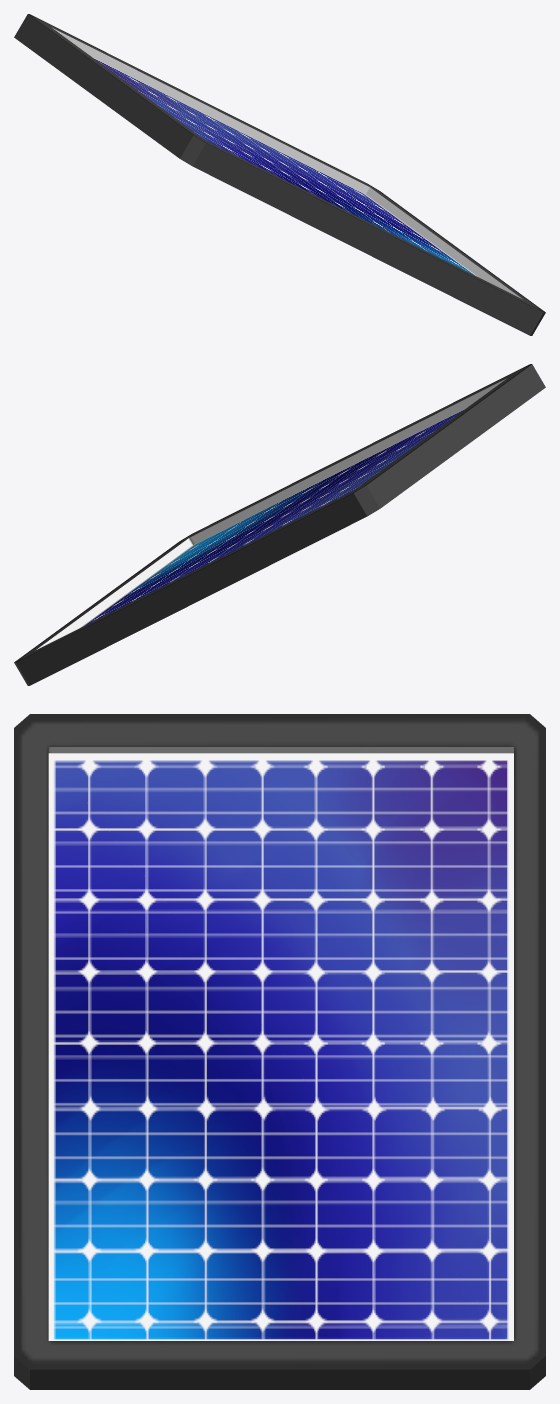
File: SolarPanel.fbx
The picture shows the model from 3 angles, top to bottom: view 1: azimuth 30°, elevation 25°; view 2: azimuth 150°, elevation 25°; view 3: azimuth 270°, elevation 25°; orthographic projection. The views are drawn at different scales.
Parts seen in each view (by area): view 1: Solarpannel; view 2: Solarpannel; view 3: Solarpannel.
Part boxes in pixels (x1,y1,x2,y2): Solarpannel: [14, 14, 545, 335]; Solarpannel: [14, 364, 545, 685]; Solarpannel: [14, 714, 545, 1389].
Size of the model in its own units: 15.57 by 11.5 by 13.
